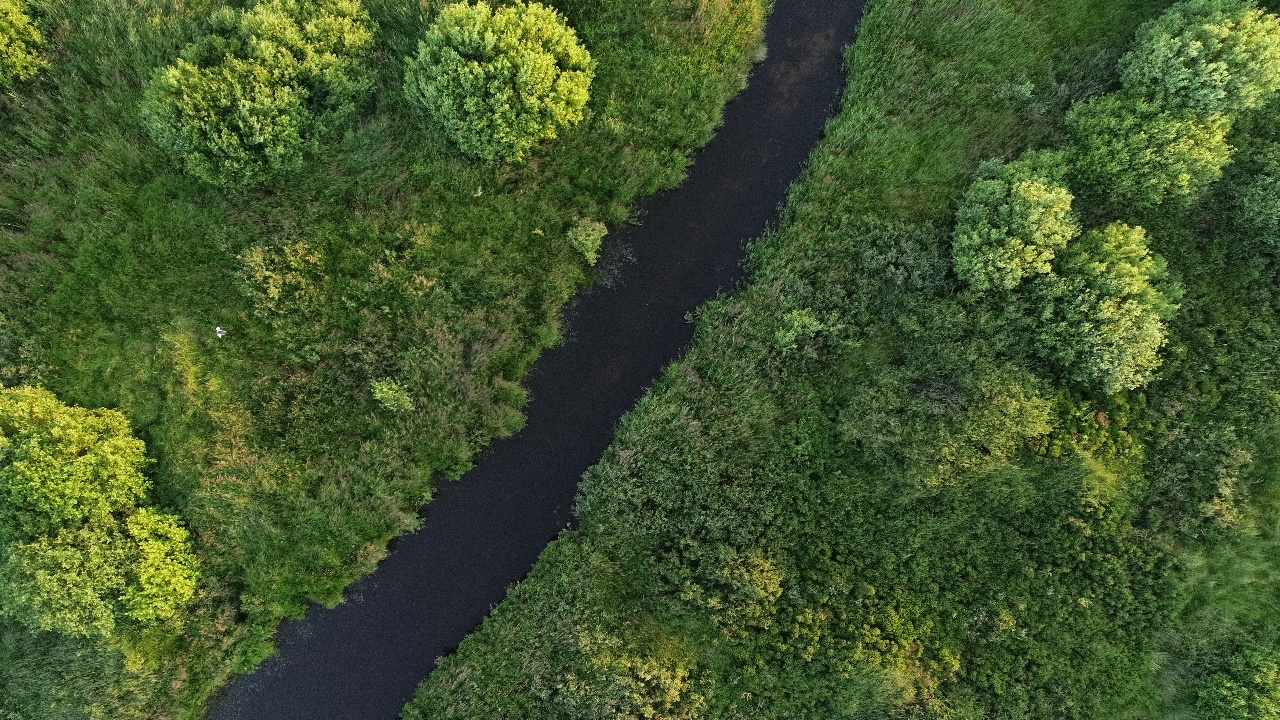Bird: (209, 320, 237, 347)
